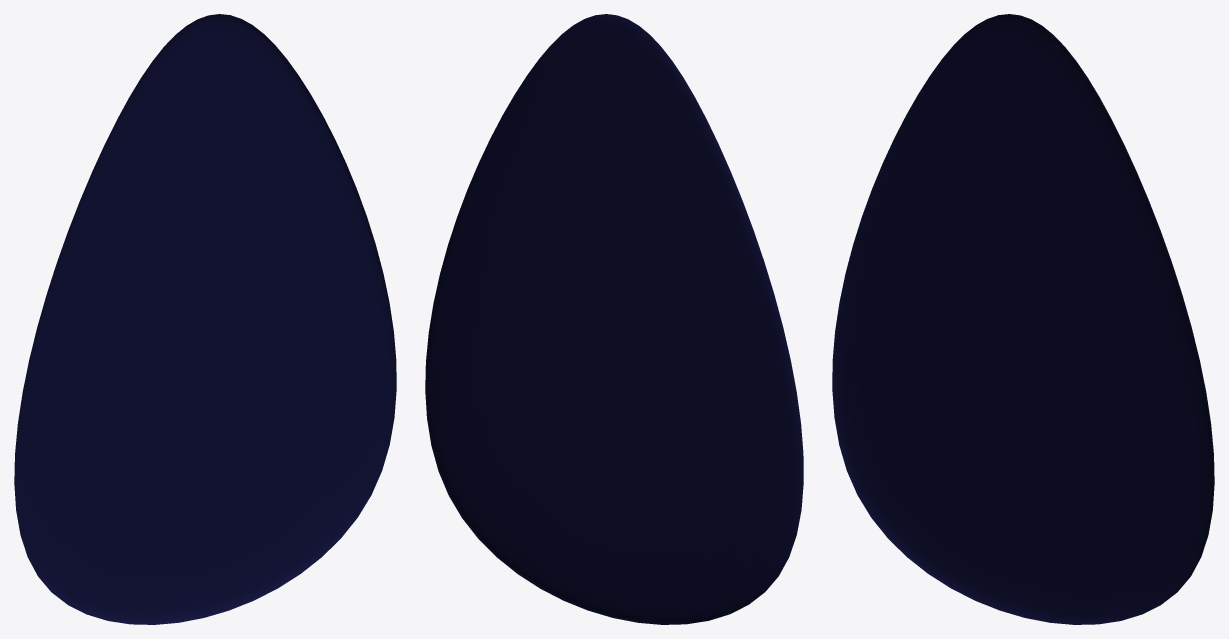
The model's file is TearHole.fbx.
3 renders of one model, left to right at view 1: azimuth 30°, elevation 25°; view 2: azimuth 150°, elevation 25°; view 3: azimuth 330°, elevation 25°, orthographic.
Visible parts, largest first — view 1: Plane; view 2: Plane; view 3: Plane.
Part boxes in pixels (<box>): Plane: <box>14,14,396,624</box>; Plane: <box>425,14,803,624</box>; Plane: <box>832,14,1214,624</box>.
Bounding box in the file's own units: 19.89 × 30.12 × 0.6308.
